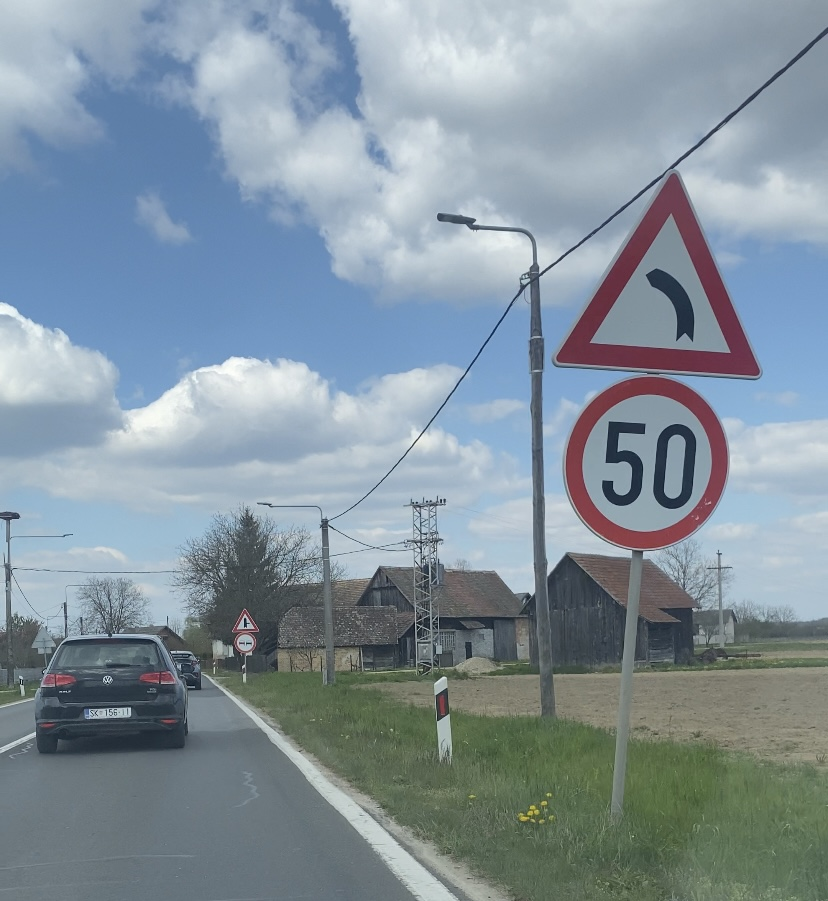Ograničenje brzine 50: (564, 374, 729, 550)
Zabrana pretjecanja: (234, 632, 257, 653)
